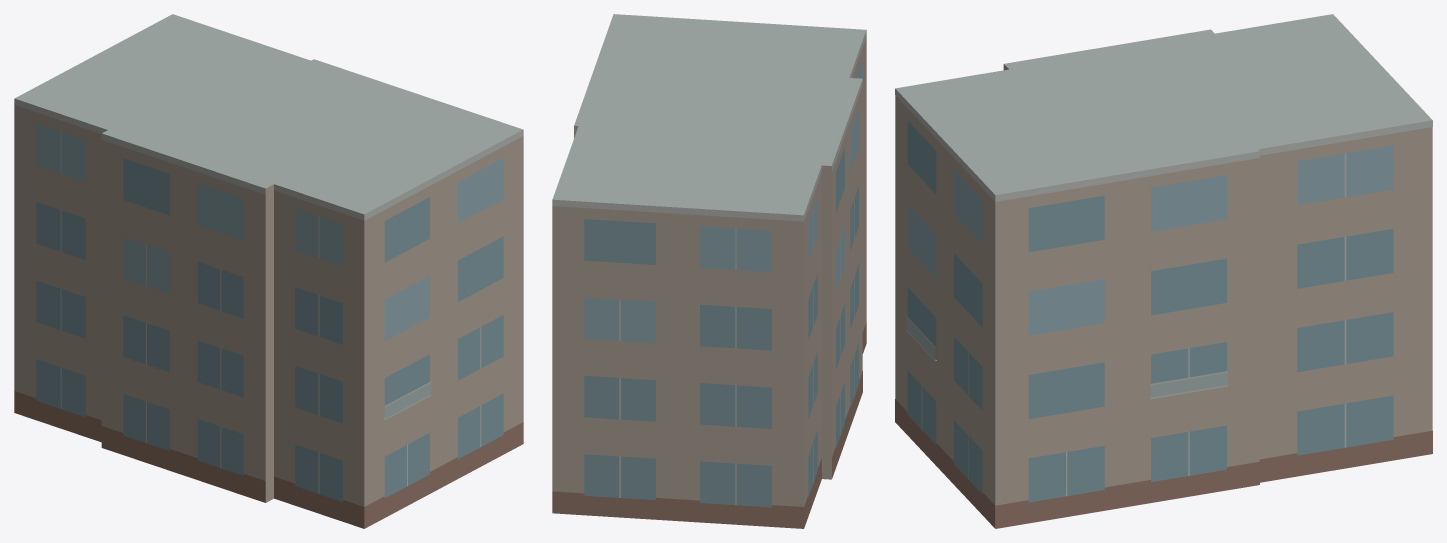
The model's file is survey-upis-32703724.glb.
3 views of the same model, side by side, from view 1: azimuth 30°, elevation 25°; view 2: azimuth 150°, elevation 25°; view 3: azimuth 270°, elevation 25° (orthographic). The views are drawn at different scales.
Visible parts, largest first — view 1: survey-upis-32703724.tmp; view 2: survey-upis-32703724.tmp; view 3: survey-upis-32703724.tmp.
Part boxes in pixels (box(x1,y1,x2,y2)): survey-upis-32703724.tmp: box(14, 14, 523, 528); survey-upis-32703724.tmp: box(552, 14, 866, 528); survey-upis-32703724.tmp: box(895, 14, 1432, 528).
Size of the model in its own units: 14.22 by 12.2 by 17.83.
